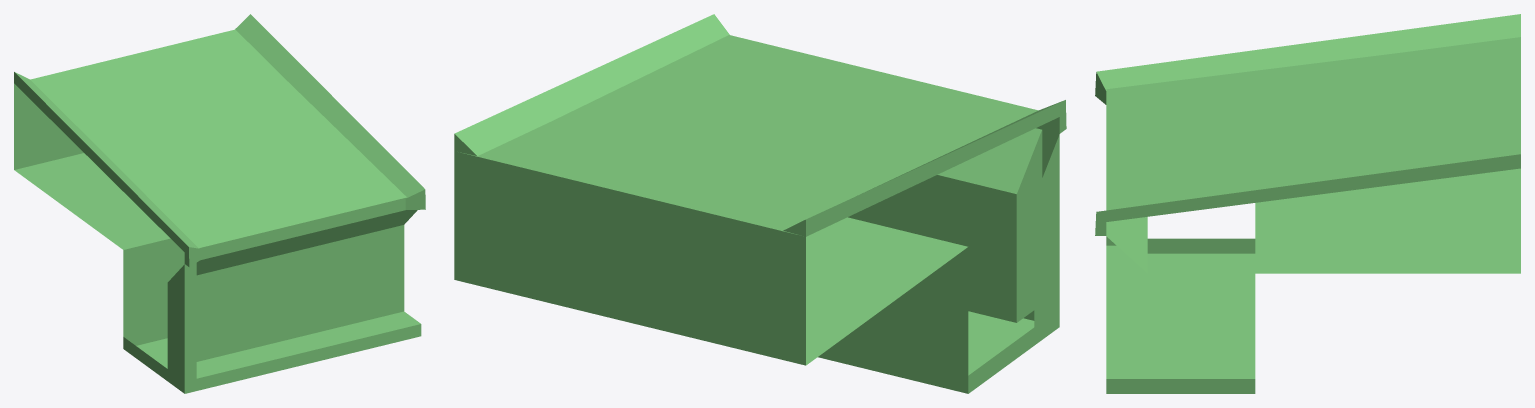
The model's file is Bld3_Top_Mid_B.fbx.
3 views of the same model, side by side, from view 1: azimuth 30°, elevation 25°; view 2: azimuth 150°, elevation 25°; view 3: azimuth 270°, elevation 25° (orthographic). The views are drawn at different scales.
Visible parts, largest first — view 1: Bld3_Top_Mid_B; view 2: Bld3_Top_Mid_B; view 3: Bld3_Top_Mid_B.
Part boxes in pixels (x1,y1,x2,y2): Bld3_Top_Mid_B: (14,14,425,393); Bld3_Top_Mid_B: (454,14,1066,393); Bld3_Top_Mid_B: (1095,14,1520,393).
Bounding box in the file's own units: 300 × 239 × 385.
